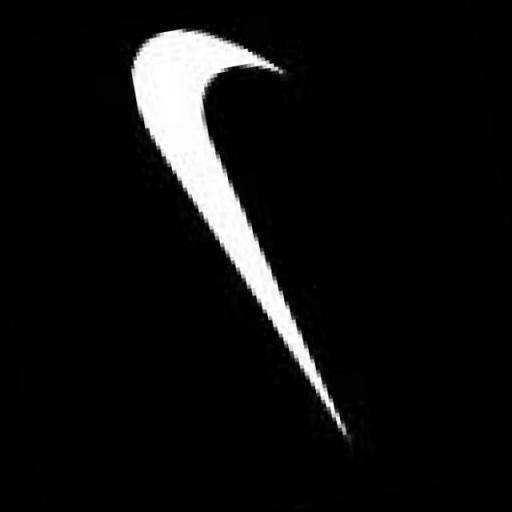Nike: (115, 0, 353, 462)
